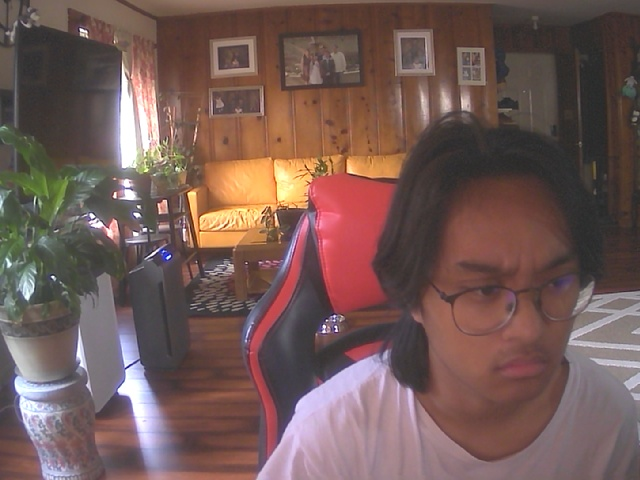anger: (400, 144, 599, 412)
